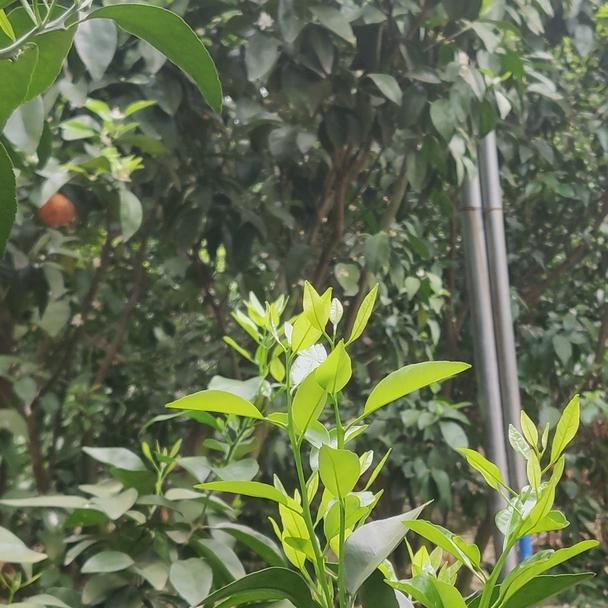shoot: (231, 292, 416, 548), (451, 405, 604, 589)
